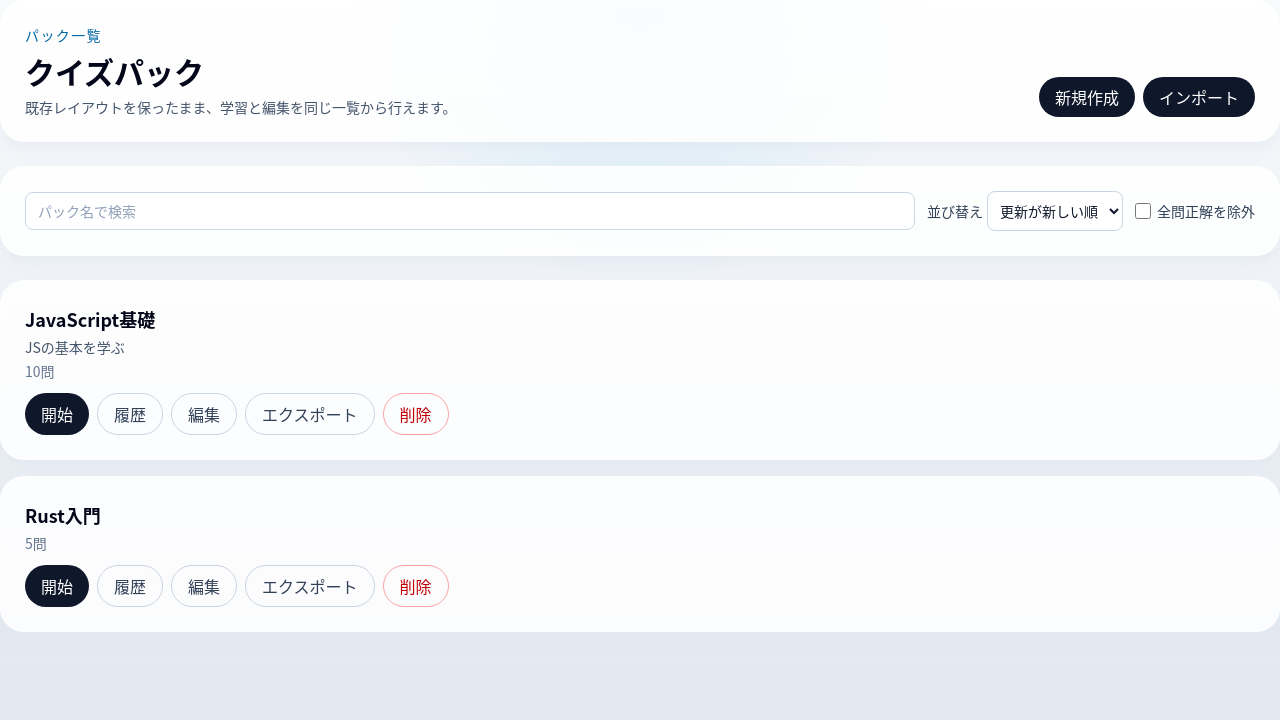
Test: HomePage › インポート機能 › インポート失敗時にエラーメッセージを表示する
Click the button "インポート": (1199, 97) left=1143, top=77, right=1255, bottom=117
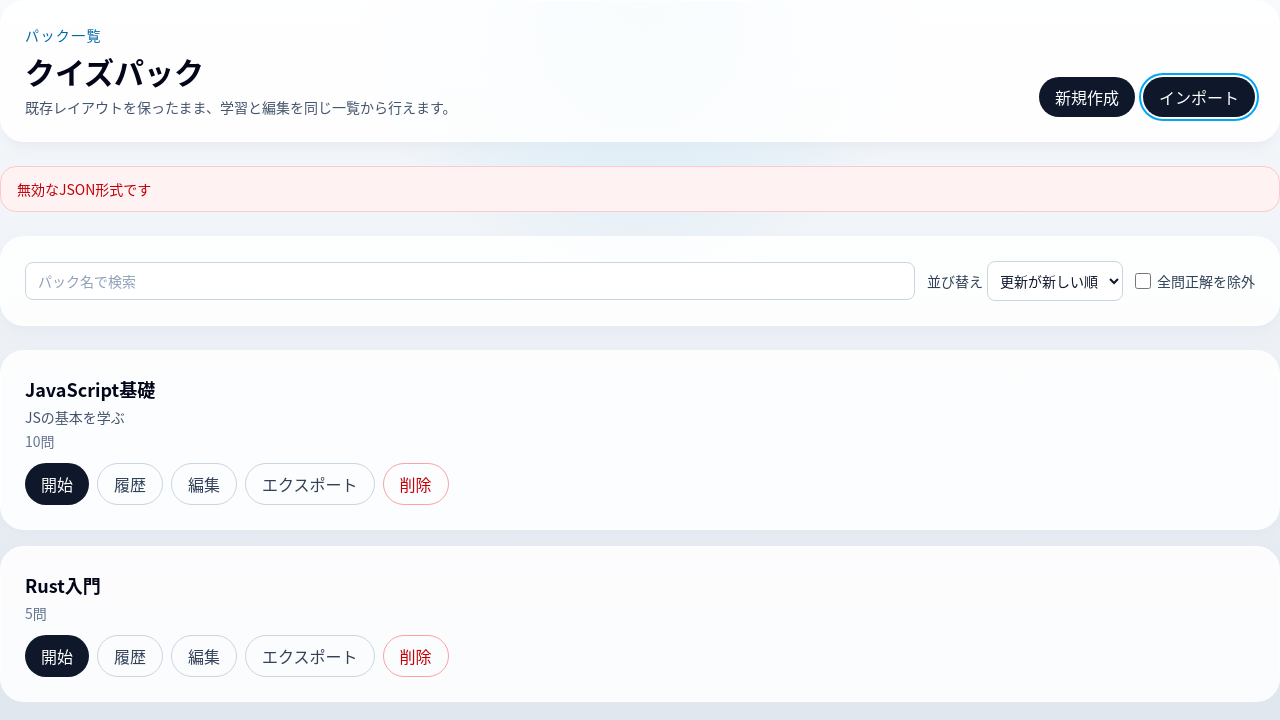
Now the text "無効なJSON形式です" is shown, box left=0, top=166, right=1279, bottom=212
